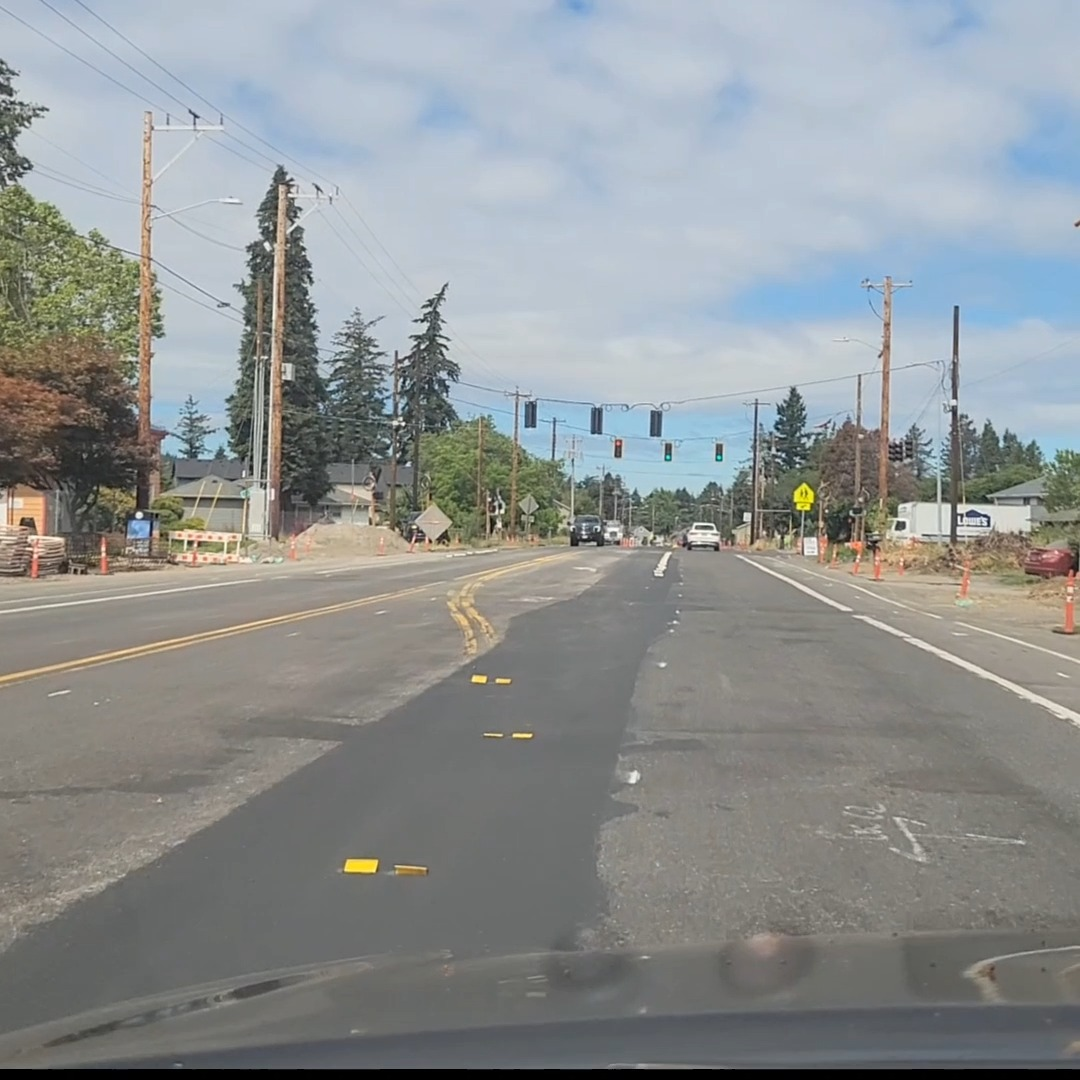car: (569, 514, 604, 546), (683, 522, 721, 551), (602, 520, 624, 546)
crosswalk-sign: (792, 482, 814, 510)
delineator: (1054, 572, 1077, 633), (954, 559, 976, 607), (850, 542, 864, 574), (30, 538, 40, 578), (99, 536, 108, 574), (872, 549, 882, 580), (827, 544, 839, 568), (375, 534, 387, 555), (288, 534, 297, 560), (407, 532, 418, 553), (303, 532, 313, 555), (817, 539, 826, 563), (897, 551, 905, 575), (189, 548, 198, 564), (504, 534, 516, 545), (426, 535, 432, 547), (455, 532, 460, 544), (528, 534, 533, 542)
